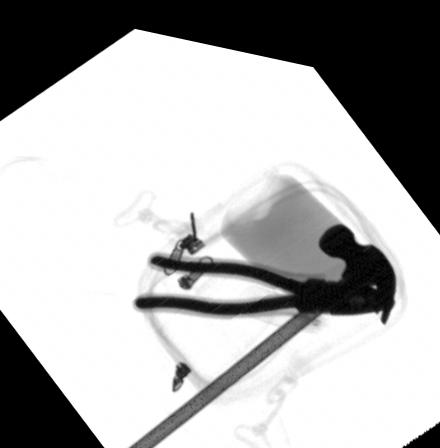Hammer: (121, 206, 396, 448)
Pliers: (133, 244, 397, 316)
